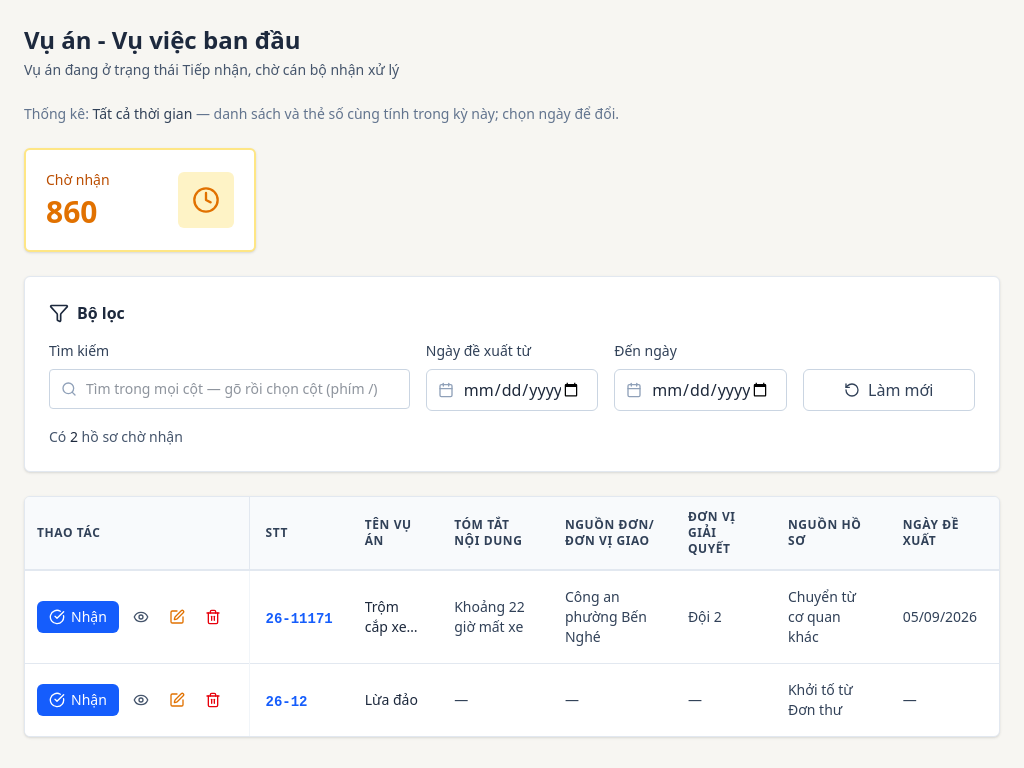
Test: InitialCasesPage — dữ liệu thật, lọc ở máy chủ › Nhận xử lý → lệnh tiếp nhận độc lập giữ trạng thái, hai phiên bản; hỏng vẫn giữ hộp và nói lý do
Check: the row with test id "initial-row-c1" is shown, box [25, 570, 999, 664]
Click the button with test id "btn-assign-c1" at (78, 617), box [37, 601, 119, 633]
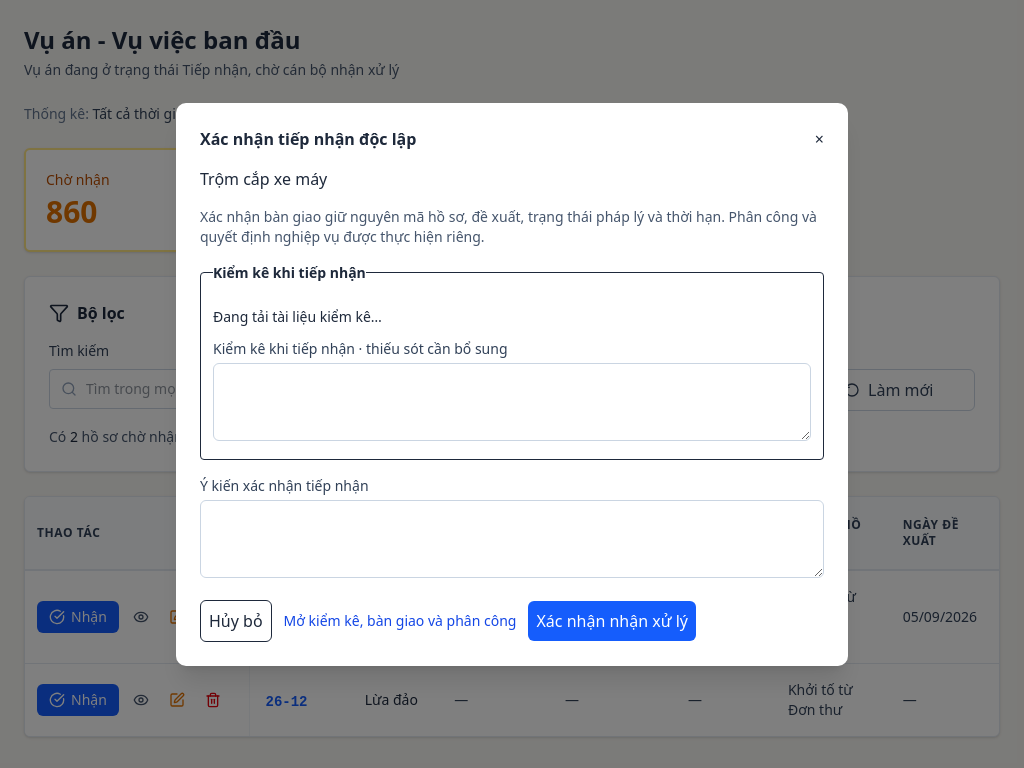
Check: the button with test id "btn-confirm-assign" is enabled
Click the button with test id "btn-confirm-assign" at (612, 620), box [528, 600, 696, 640]
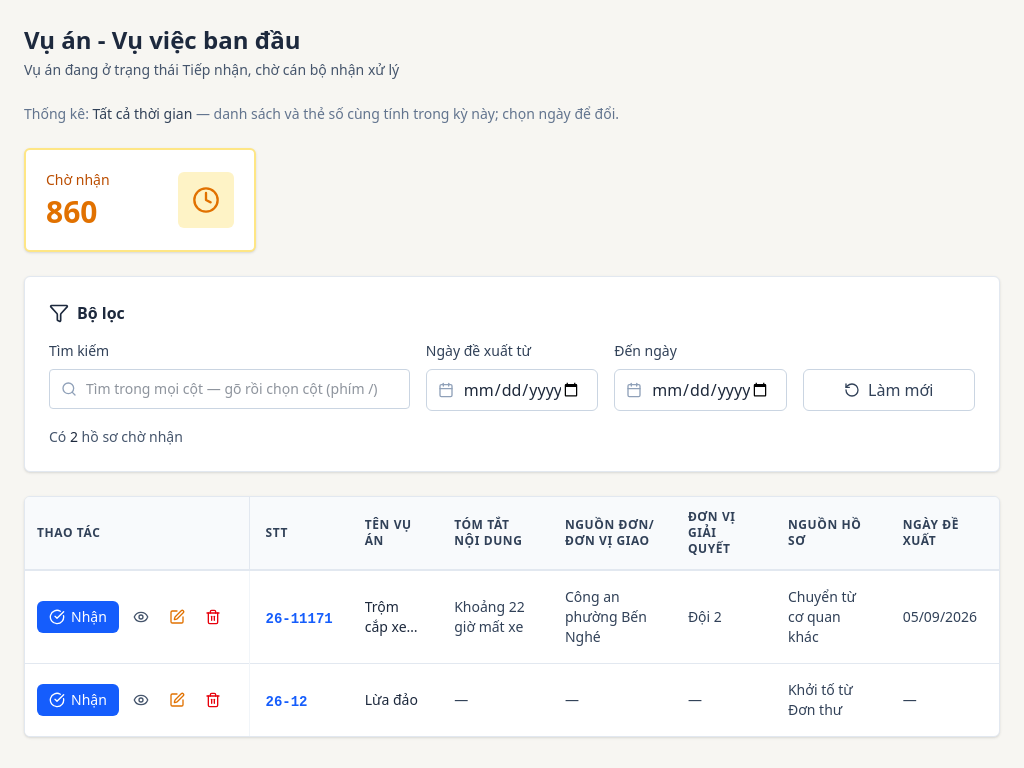
Click the button with test id "btn-assign-c1" at (78, 617), box [37, 601, 119, 633]
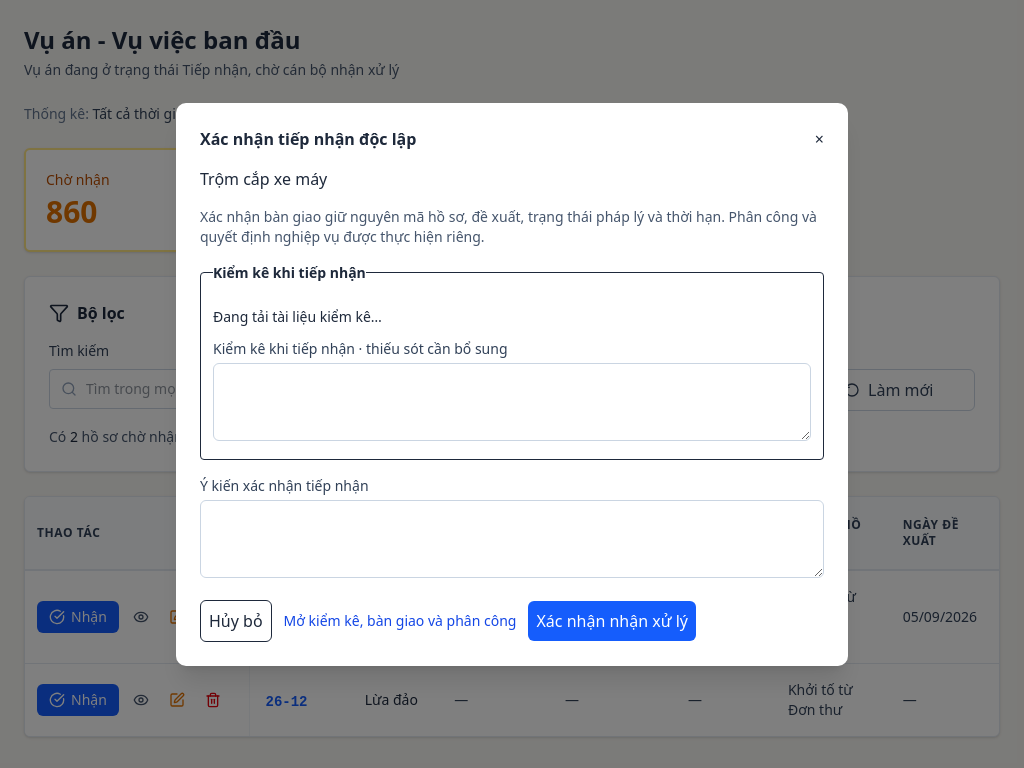
Check: the button with test id "btn-confirm-assign" is enabled
Click the button with test id "btn-confirm-assign" at (612, 620), box [528, 600, 696, 640]
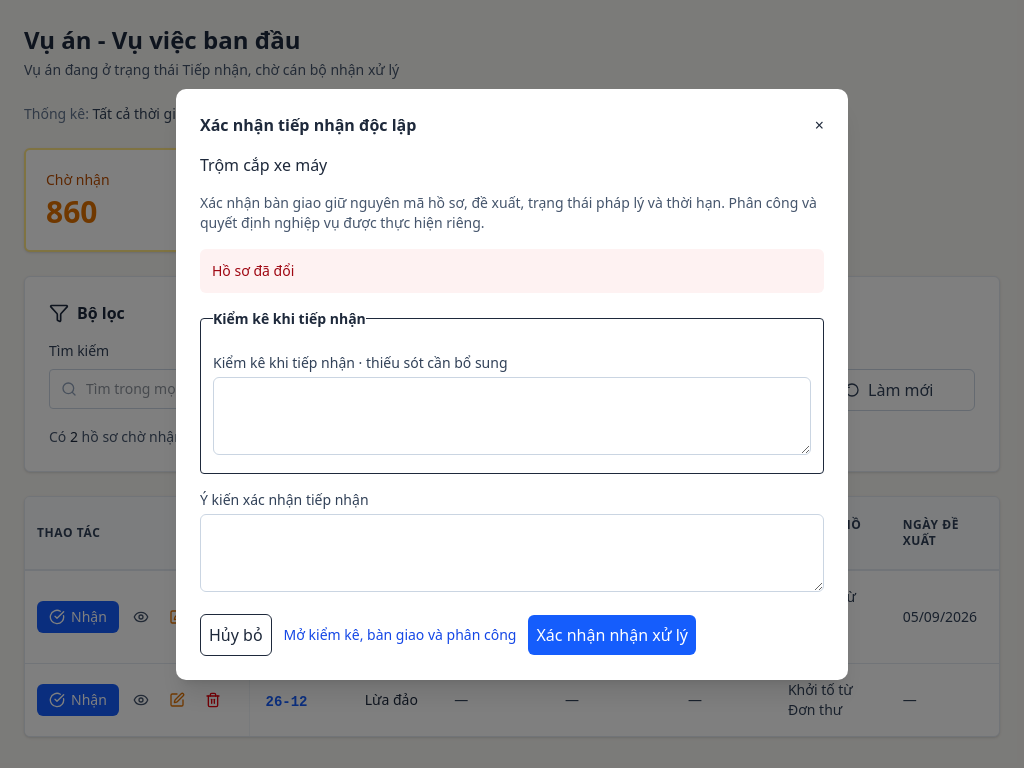
Check: the element with test id "initial-assign-error" reads "Hồ sơ đã đổi", box [212, 260, 294, 280]
